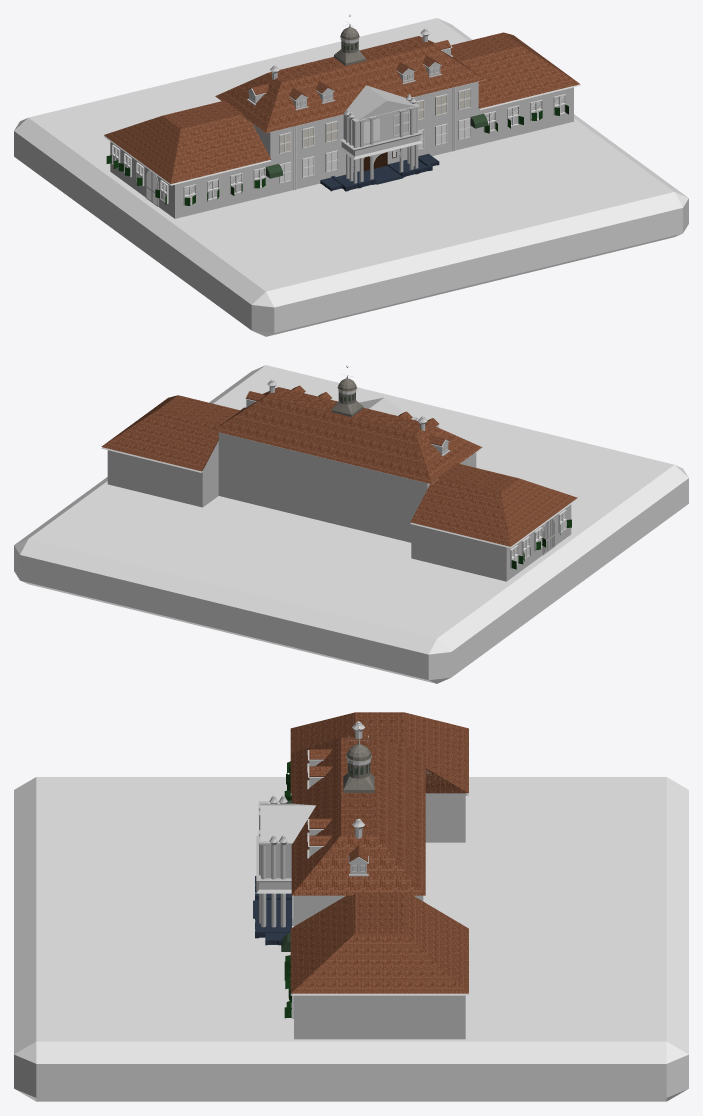
Rendered from MINI_KOTATUA.fbx.
The picture shows the model from 3 angles, top to bottom: view 1: azimuth 30°, elevation 25°; view 2: azimuth 150°, elevation 25°; view 3: azimuth 270°, elevation 25°; orthographic projection. The views are drawn at different scales.
Parts seen in each view (by area): view 1: Plane.004, Atap.002, Gedung.002, Jendela.001, Kaca.001, Pijakan.001, Penutup Jendela.001, Jendela kota tua.002; view 2: Plane.004, Atap.002, Gedung.002, Jendela kota tua.002, Jendela.001; view 3: Plane.004, Atap.002, Gedung.002, Pijakan.001, Jendela kota tua.002.
Part boxes in pixels (x1,y1,x2,y2): Plane.004: (14, 18, 688, 336); Atap.002: (104, 32, 580, 183); Gedung.002: (104, 28, 580, 218); Jendela.001: (112, 87, 565, 206); Kaca.001: (112, 89, 469, 203); Pijakan.001: (320, 153, 439, 191); Penutup Jendela.001: (106, 104, 568, 205); Jendela kota tua.002: (334, 24, 365, 65); Plane.004: (14, 365, 688, 683); Atap.002: (101, 385, 577, 546); Gedung.002: (101, 379, 577, 581); Jendela kota tua.002: (331, 375, 363, 416); Jendela.001: (510, 509, 566, 568); Plane.004: (14, 777, 688, 1101); Atap.002: (290, 712, 468, 993); Gedung.002: (256, 721, 468, 1039); Pijakan.001: (253, 876, 291, 945); Jendela kota tua.002: (343, 740, 374, 792).
Bounding box in the file's own units: 227 × 90.86 × 228.
